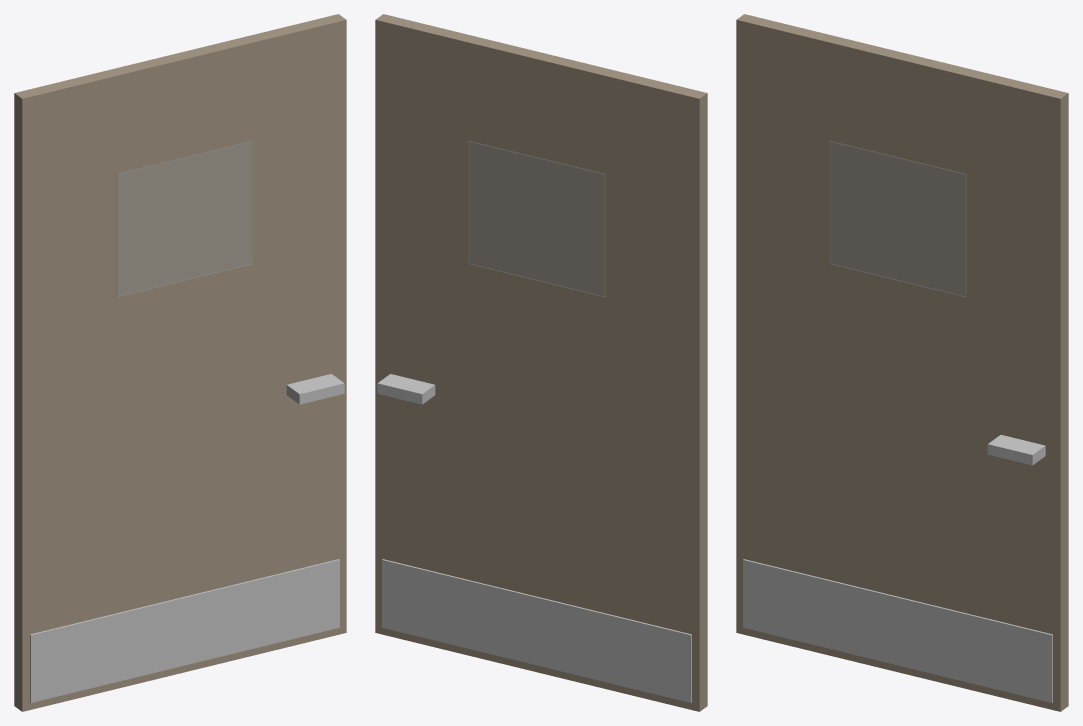
File: folha_3e7bbdd5a3.gltf
3 renders of one model, left to right at view 1: azimuth 30°, elevation 25°; view 2: azimuth 150°, elevation 25°; view 3: azimuth 330°, elevation 25°, orthographic.
Parts seen in each view (by area): view 1: folha_3e7bbdd5a3; view 2: folha_3e7bbdd5a3; view 3: folha_3e7bbdd5a3.
Part boxes in pixels (x1=…): folha_3e7bbdd5a3: x1=14, y1=14, x2=346, y2=711; folha_3e7bbdd5a3: x1=375, y1=14, x2=707, y2=711; folha_3e7bbdd5a3: x1=736, y1=14, x2=1068, y2=711.
Size of the model in its own units: 1.3 by 2.35 by 0.235.
